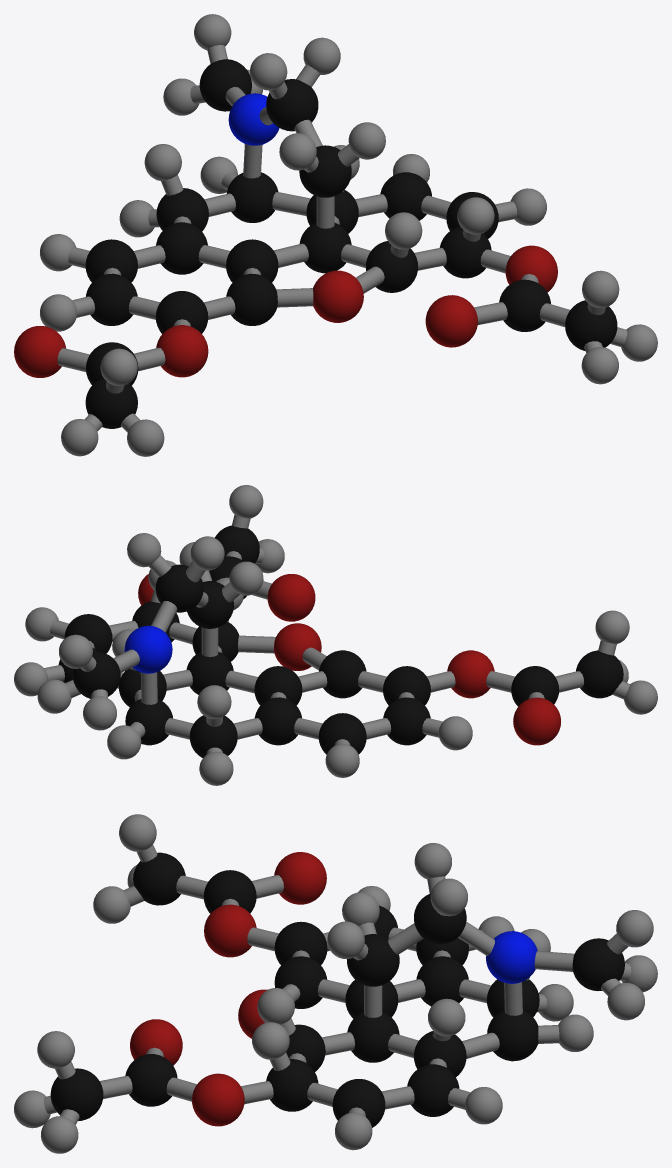
The picture shows the model from 3 angles, top to bottom: view 1: azimuth 30°, elevation 25°; view 2: azimuth 150°, elevation 25°; view 3: azimuth 270°, elevation 25°; orthographic projection. The views are drawn at different scales.
Visible parts, largest first — view 1: Heroin; view 2: Heroin; view 3: Heroin.
Boxes of the visible parts, box(x1,y1,x2,y2) form: Heroin: box(14, 14, 657, 456); Heroin: box(14, 485, 657, 785); Heroin: box(14, 814, 657, 1153).
Size of the model in its own units: 180 by 63.16 by 170.
